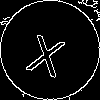X: (25, 25, 70, 78)
